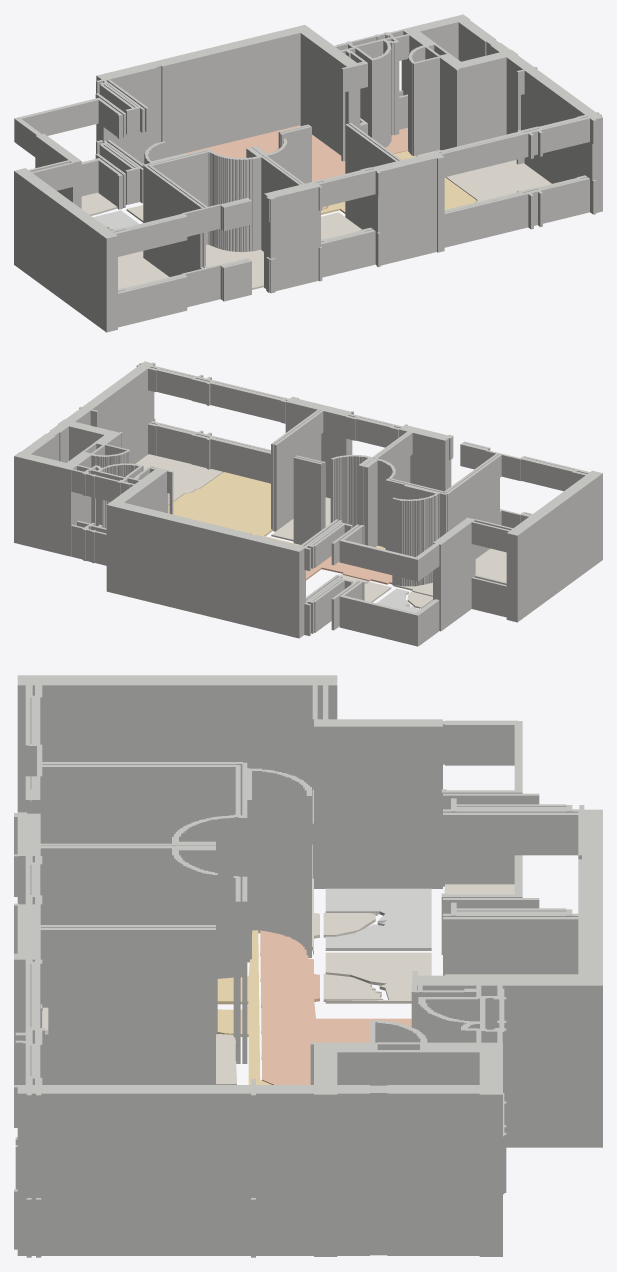
The picture shows the model from 3 angles, top to bottom: view 1: azimuth 30°, elevation 25°; view 2: azimuth 150°, elevation 25°; view 3: azimuth 270°, elevation 25°; orthographic projection. The views are drawn at different scales.
Parts seen in each view (by area): view 1: walls, room:kitchen:2, room:other:5, room:other:13, room:other:14, room:living:4, room:other:15, room:other:6, room:ledge:1; view 2: walls, room:living:4, room:other:5, room:other:13, room:kitchen:2, room:ledge:1, room:other:15; view 3: walls, room:kitchen:2, room:ledge:1, room:other:9, room:living:4, room:other:11, room:other:15, room:other:12, room:other:6.
Boxes of the visible parts, box(x1,y1,x2,y2) form: walls: box(14, 14, 602, 332); room:kitchen:2: box(187, 125, 408, 209); room:other:5: box(417, 150, 551, 202); room:other:13: box(118, 251, 169, 288); room:other:14: box(206, 244, 263, 289); room:living:4: box(321, 151, 476, 214); room:other:15: box(321, 212, 361, 239); room:other:6: box(81, 192, 117, 215); room:ledge:1: box(93, 210, 138, 230); walls: box(14, 361, 602, 646); room:living:4: box(168, 472, 385, 549); room:other:5: box(136, 454, 223, 505); room:other:13: box(393, 548, 506, 596); room:kitchen:2: box(306, 556, 392, 584); room:ledge:1: box(376, 588, 420, 612); room:other:15: box(271, 497, 330, 541); walls: box(14, 675, 602, 1257); room:kitchen:2: box(260, 930, 411, 1084); room:ledge:1: box(325, 888, 431, 950); room:other:9: box(325, 952, 431, 1003); room:living:4: box(217, 930, 271, 1084); room:other:11: box(323, 974, 383, 1001); room:other:15: box(42, 1007, 236, 1084); room:other:12: box(323, 913, 377, 937); room:other:6: box(444, 884, 514, 894).
Bounding box in the file's own units: 15.54 × 2.8 × 9.21.
